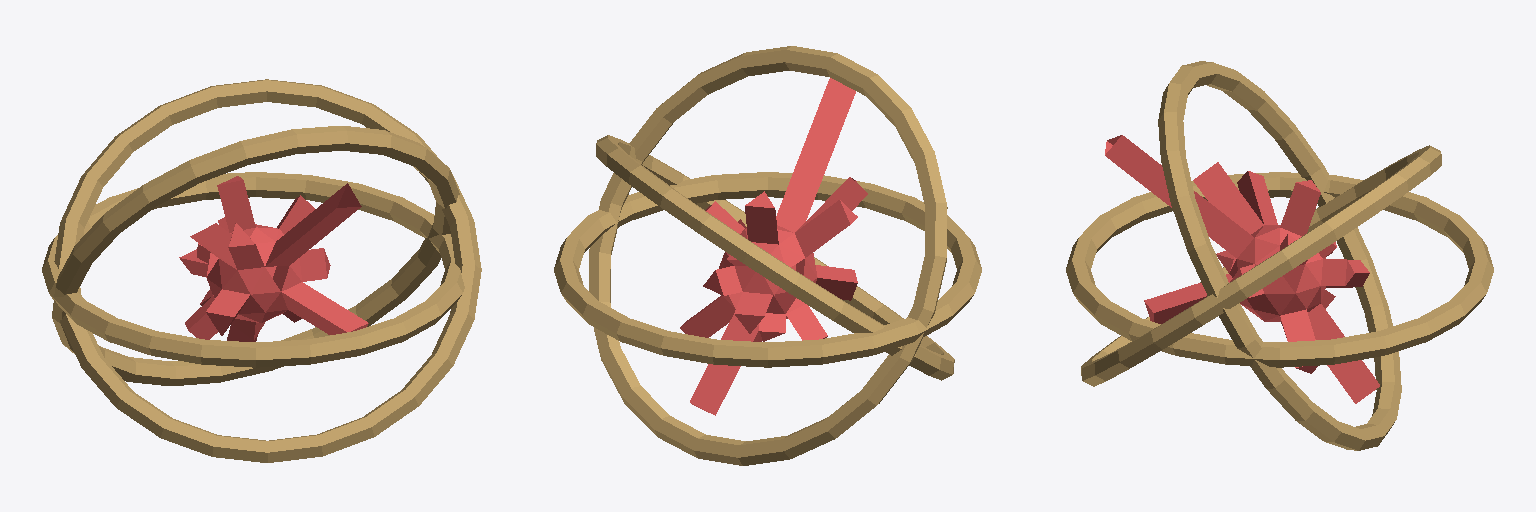
The model's file is boned.obj.
The picture shows the model from 3 angles: view 1: azimuth 30°, elevation 25°; view 2: azimuth 150°, elevation 25°; view 3: azimuth 270°, elevation 25°; orthographic projection.
Visible parts, largest first — view 1: Torus.002, Torus.003, Torus.001, Icosphere; view 2: Torus.003, Icosphere, Torus.001, Torus.002; view 3: Torus.003, Icosphere, Torus.001, Torus.002.
Part boxes in pixels (left/top/right/bottom): Torus.002: left=54, top=79, right=481, bottom=462; Torus.003: left=52, top=126, right=459, bottom=385; Torus.001: left=42, top=172, right=464, bottom=367; Icosphere: left=179, top=176, right=368, bottom=341; Torus.003: left=589, top=46, right=947, bottom=465; Icosphere: left=680, top=78, right=867, bottom=415; Torus.001: left=554, top=172, right=981, bottom=367; Torus.002: left=596, top=135, right=954, bottom=380; Torus.003: left=1158, top=61, right=1401, bottom=450; Icosphere: left=1105, top=135, right=1379, bottom=403; Torus.001: left=1066, top=172, right=1493, bottom=367; Torus.002: left=1081, top=145, right=1441, bottom=386.
Size of the model in its own units: 8.46 by 7.22 by 8.46.